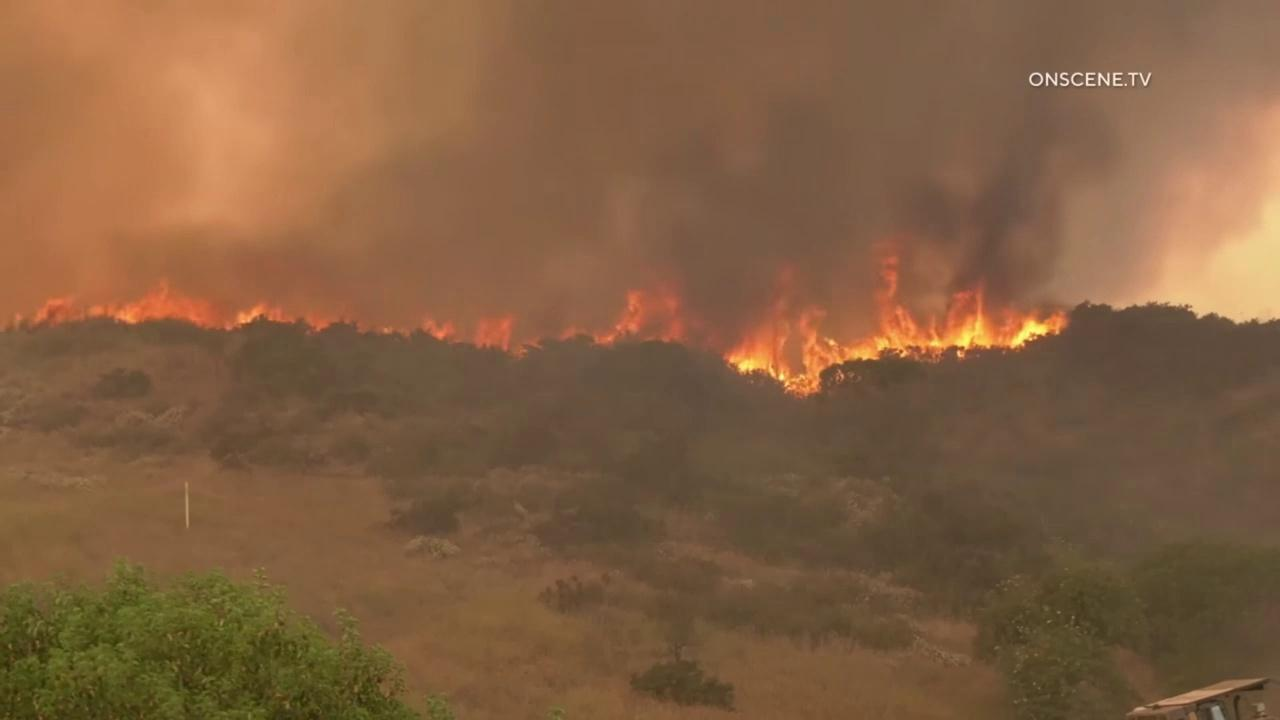fire: (722, 228, 1074, 401), (28, 277, 332, 334), (554, 277, 690, 350), (473, 311, 513, 354), (418, 310, 457, 347), (516, 333, 546, 365), (381, 325, 394, 336), (14, 310, 23, 322)
smoke: (0, 0, 1280, 308)
